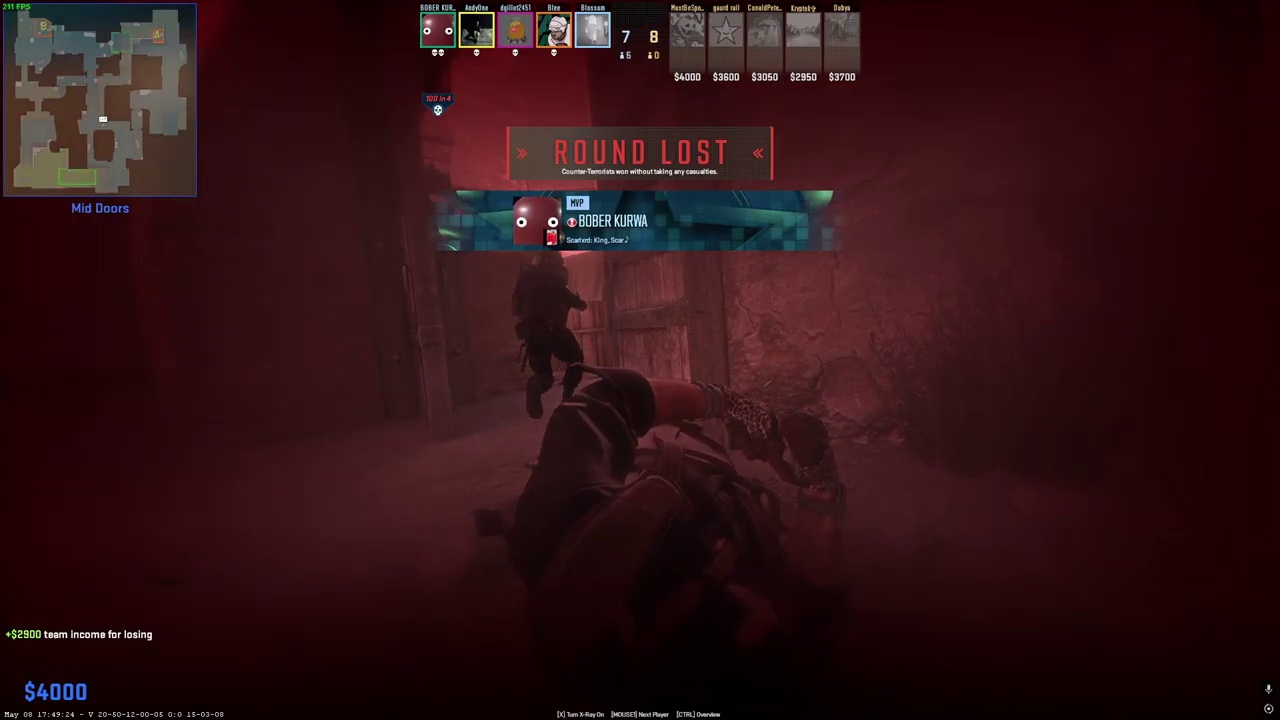CT: (515, 250, 588, 417)
